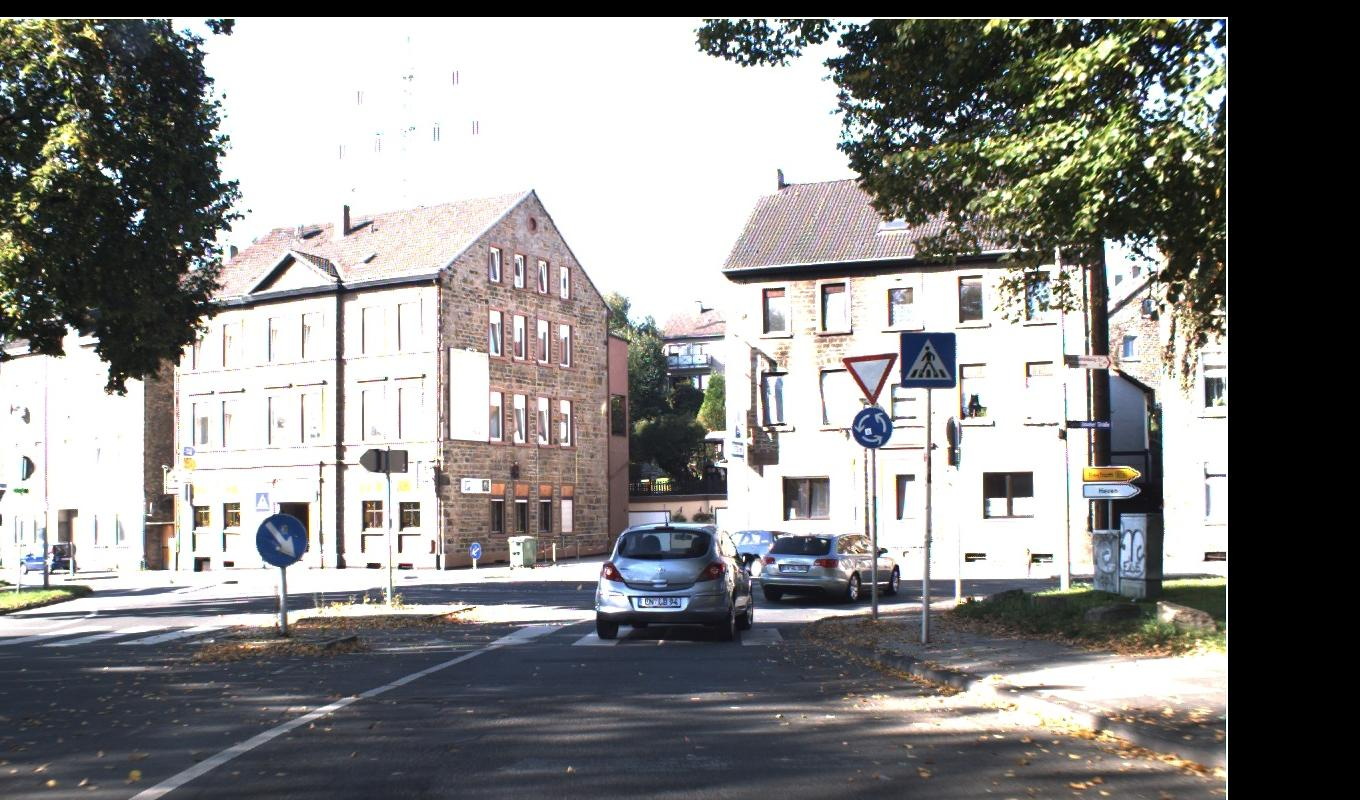roundabout: (254, 352, 899, 569)
